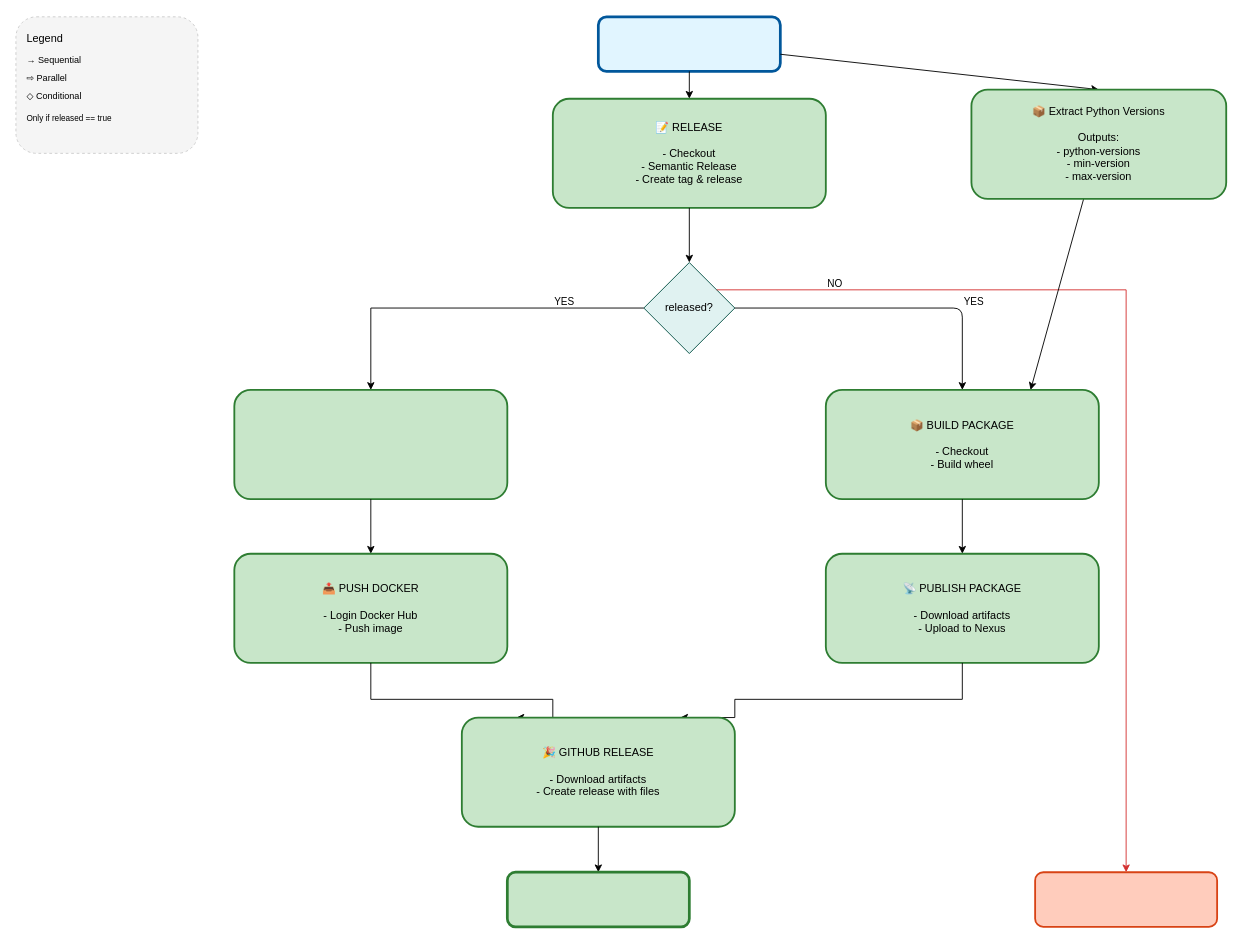
This 1243x944 diagram has some shape labels left out. The shapes that lost their labels are listed below. From the top down, each one's box as (x1, y1, x2, y2) in pixels, then its label:
(597, 15, 781, 72): 🚀 Workflow Triggered
(233, 389, 508, 500): 🐳 BUILD DOCKER - Checkout - Build Docker image
(506, 870, 690, 928): ✅ Release Complete
(1034, 871, 1218, 927): ⏭ Skipped (no changes)
